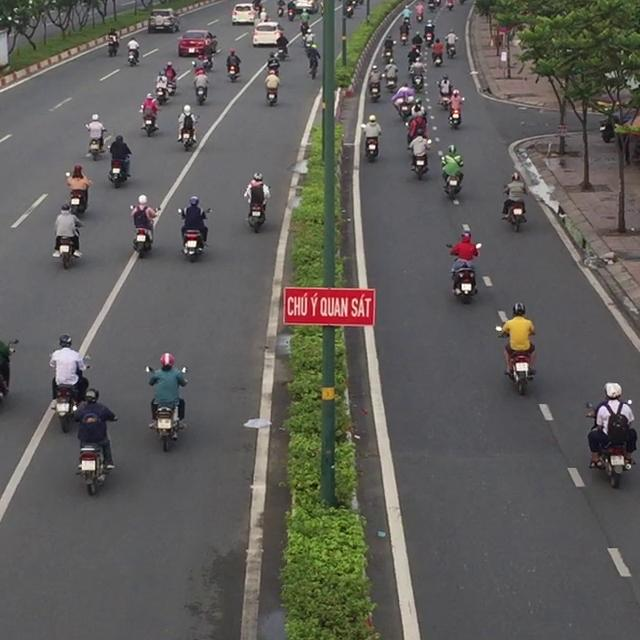Motorcycle: (584, 400, 636, 488), (144, 365, 188, 452), (74, 417, 117, 496), (50, 354, 91, 432), (494, 325, 536, 396), (445, 242, 482, 304), (177, 207, 212, 262), (129, 205, 161, 258), (52, 223, 84, 269), (437, 152, 464, 204), (244, 184, 270, 233), (501, 186, 527, 232), (65, 171, 91, 213), (407, 138, 431, 180), (405, 107, 428, 147), (176, 115, 200, 151), (84, 124, 108, 160), (107, 153, 131, 188), (360, 124, 381, 162), (138, 105, 159, 137), (447, 98, 464, 129), (193, 74, 208, 105), (394, 95, 413, 119), (436, 81, 452, 109), (264, 78, 279, 106), (154, 80, 170, 104), (409, 69, 425, 92), (368, 76, 381, 102), (382, 35, 395, 60), (226, 60, 240, 82), (385, 68, 398, 91), (444, 37, 457, 58), (191, 59, 207, 76), (107, 35, 119, 57), (308, 55, 319, 79), (164, 75, 177, 95), (431, 46, 443, 67), (127, 46, 139, 66), (276, 46, 288, 60), (300, 20, 310, 36), (399, 30, 409, 45), (424, 31, 433, 47), (287, 8, 295, 21), (403, 16, 411, 27), (416, 10, 423, 21), (277, 6, 283, 17)
